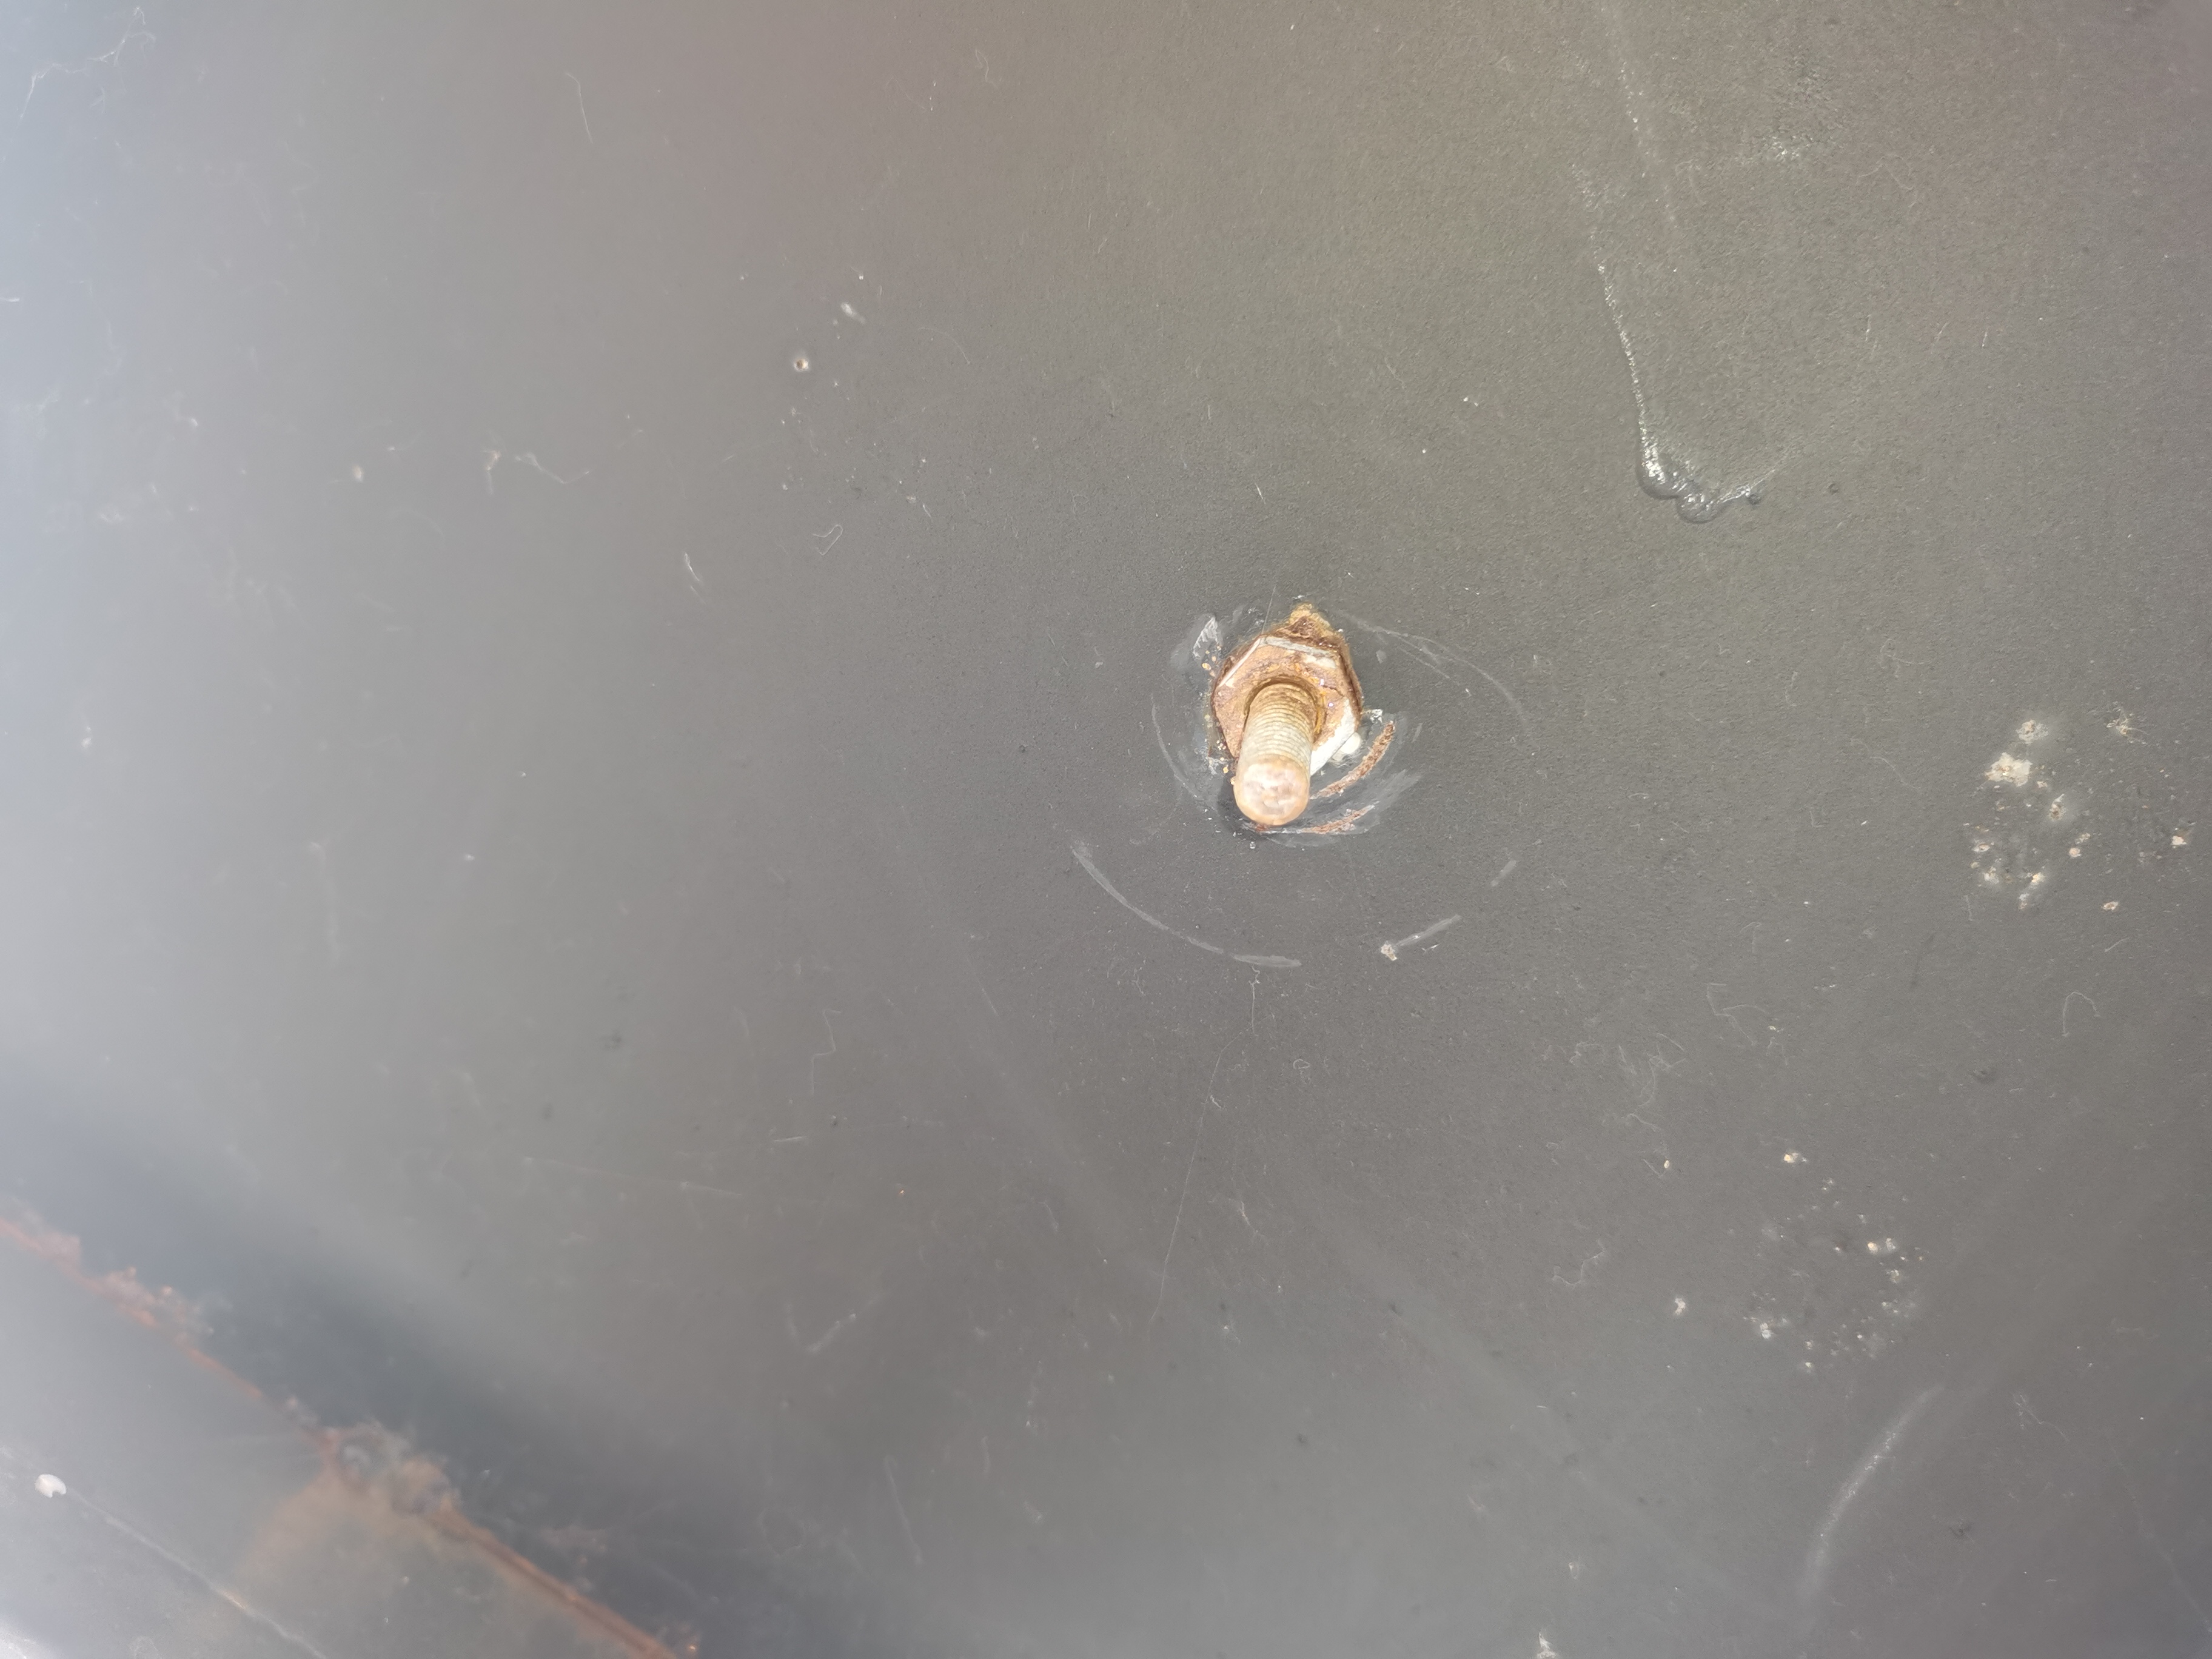bolt_b: (1204, 624, 1366, 784)
